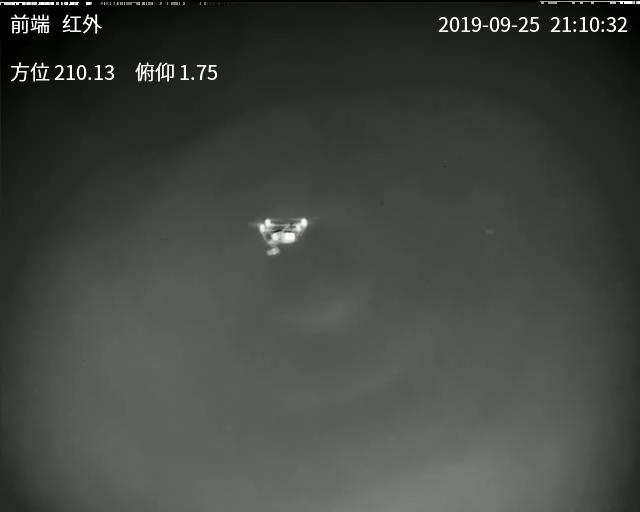uav: (254, 214, 309, 260)
